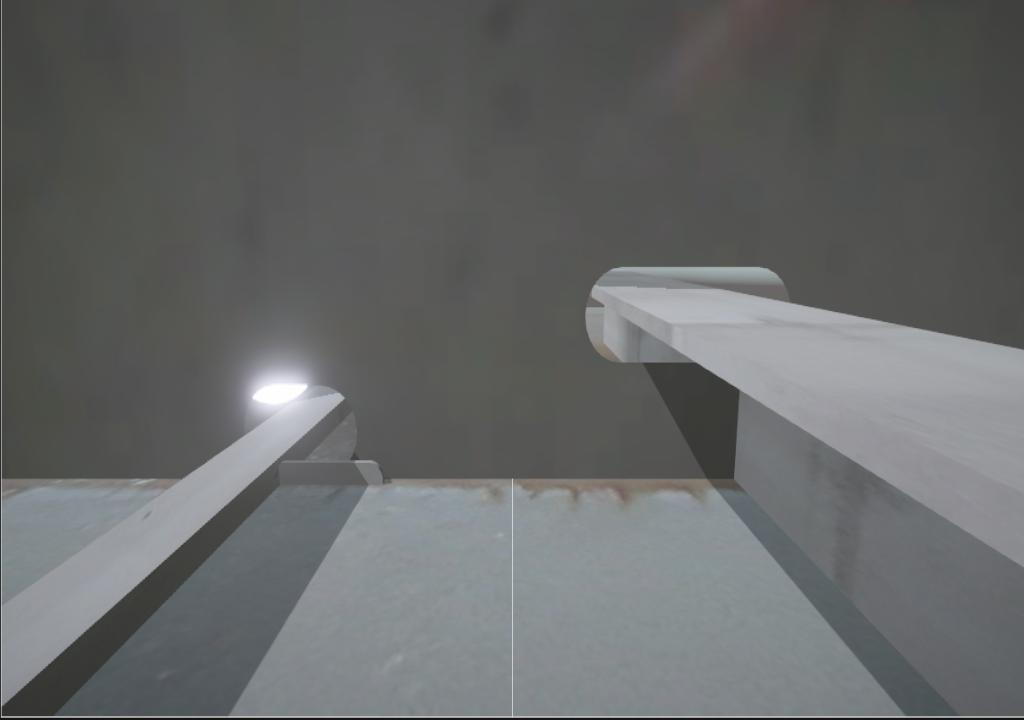fillet_yong_jeop_jang: (385, 470, 737, 483)
longi_yong_jeop_jang: (727, 385, 744, 483)
plate_CP05: (280, 461, 385, 486)
